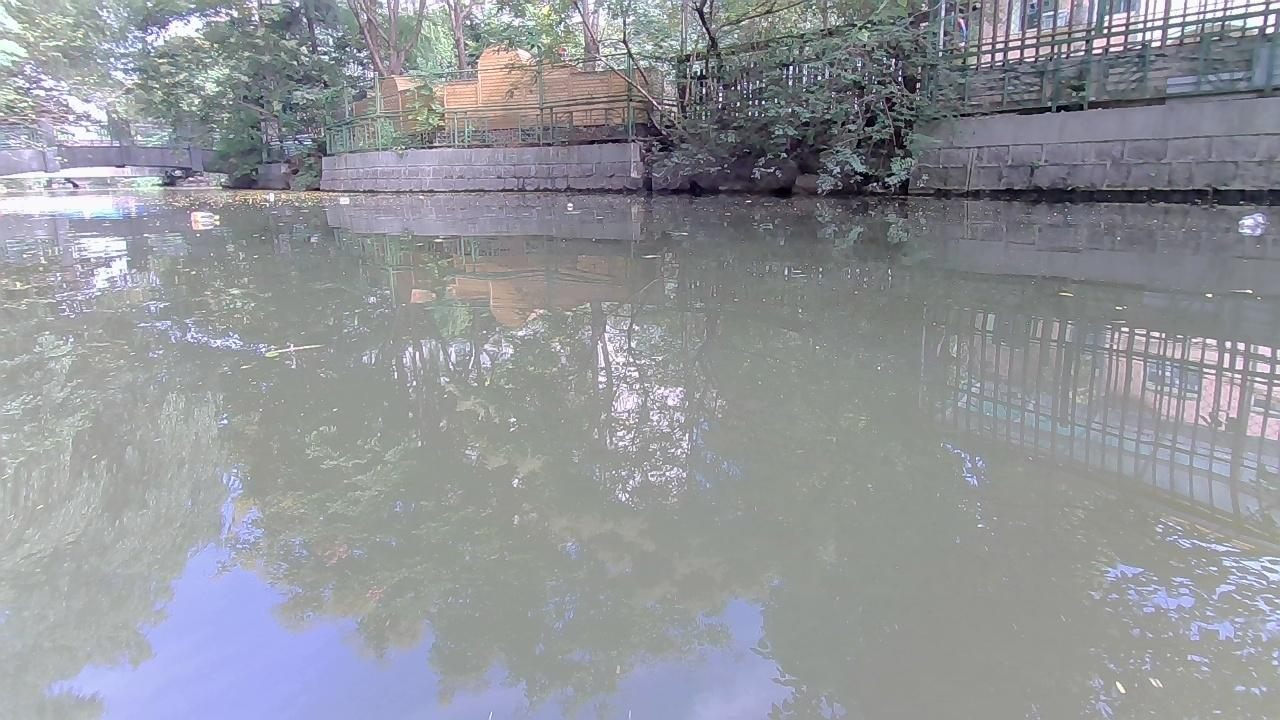bottle: (1237, 210, 1268, 231), (189, 208, 221, 222), (336, 195, 352, 205), (262, 192, 274, 200), (565, 201, 571, 209)
